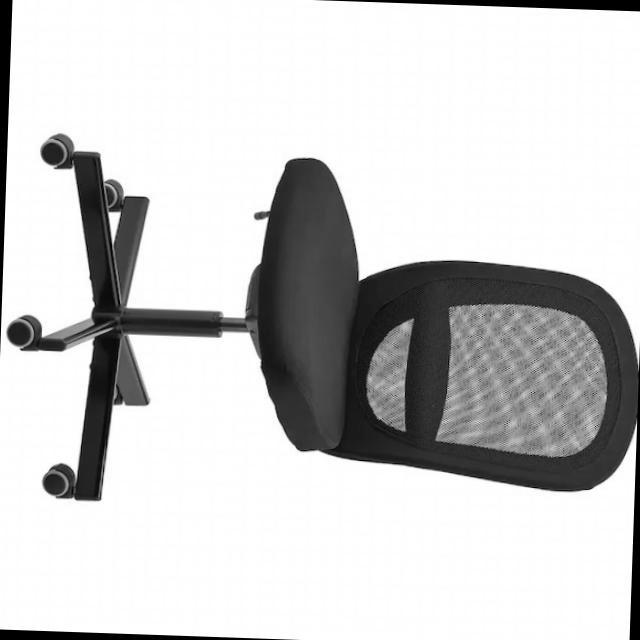chair: (0, 133, 640, 519)
